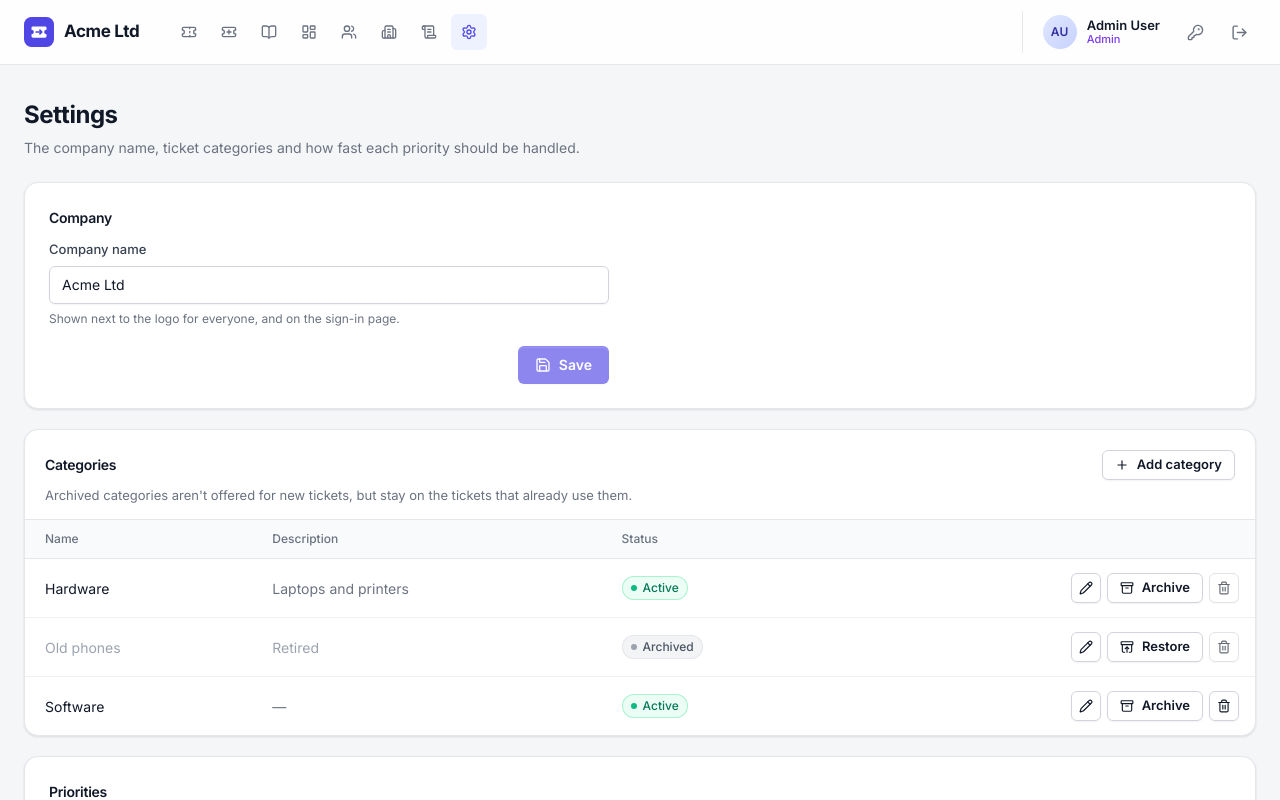
Scenario: Settings: categories › Edit: prefilled, sends only what changed
This screenshot has width=1280, height=800.
Expected: the heading "Settings" is shown, [24,100,118,129]
Expected: the element "Categories" is shown, [24,428,1256,736]
Click the button named "Edit Software".
click(1086, 706)  # box [1071,691,1101,721]
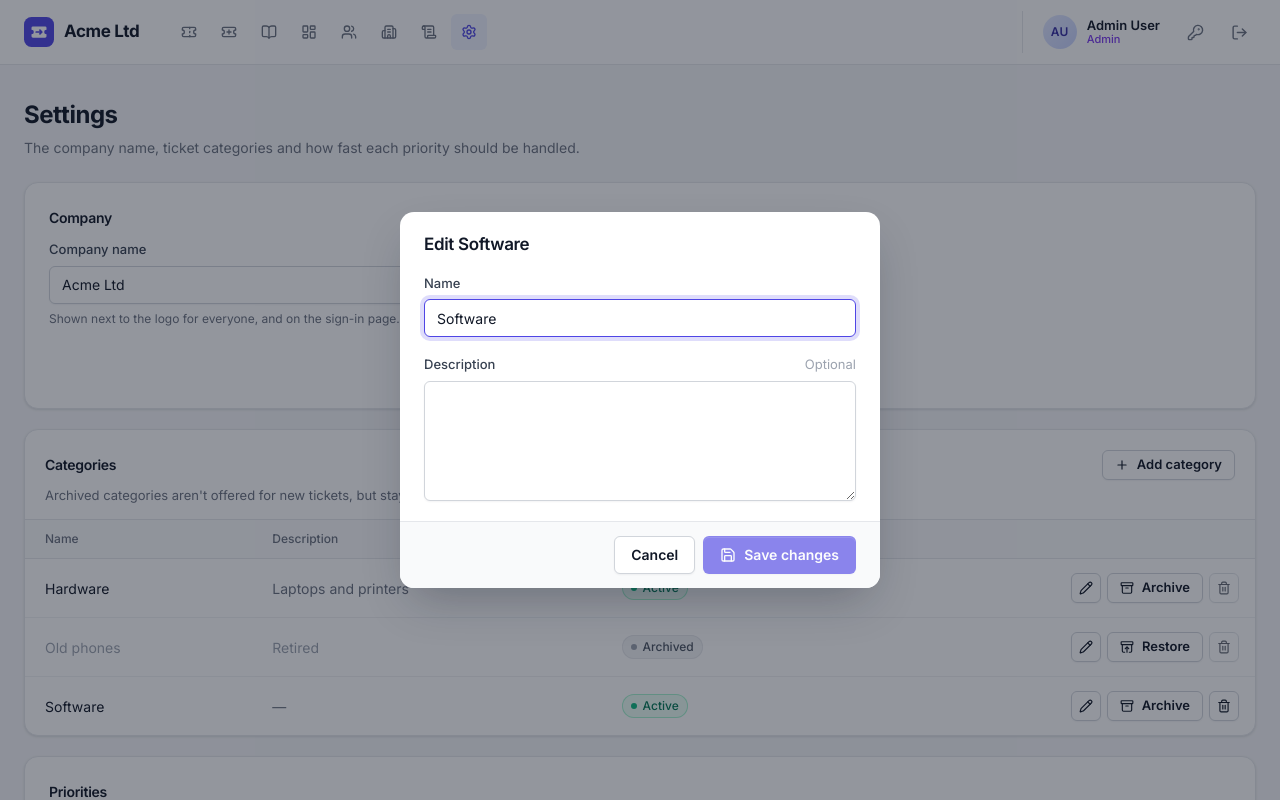
Result: the field labelled "Name" holds "Software" at [424,299,856,337]
Result: the button "Save changes" is disabled at [703,536,856,574]
Type "Apps and licences" into the text box labelled "Description Optional".
click(640, 441); type("Apps and licences")  # box [424,381,856,501]
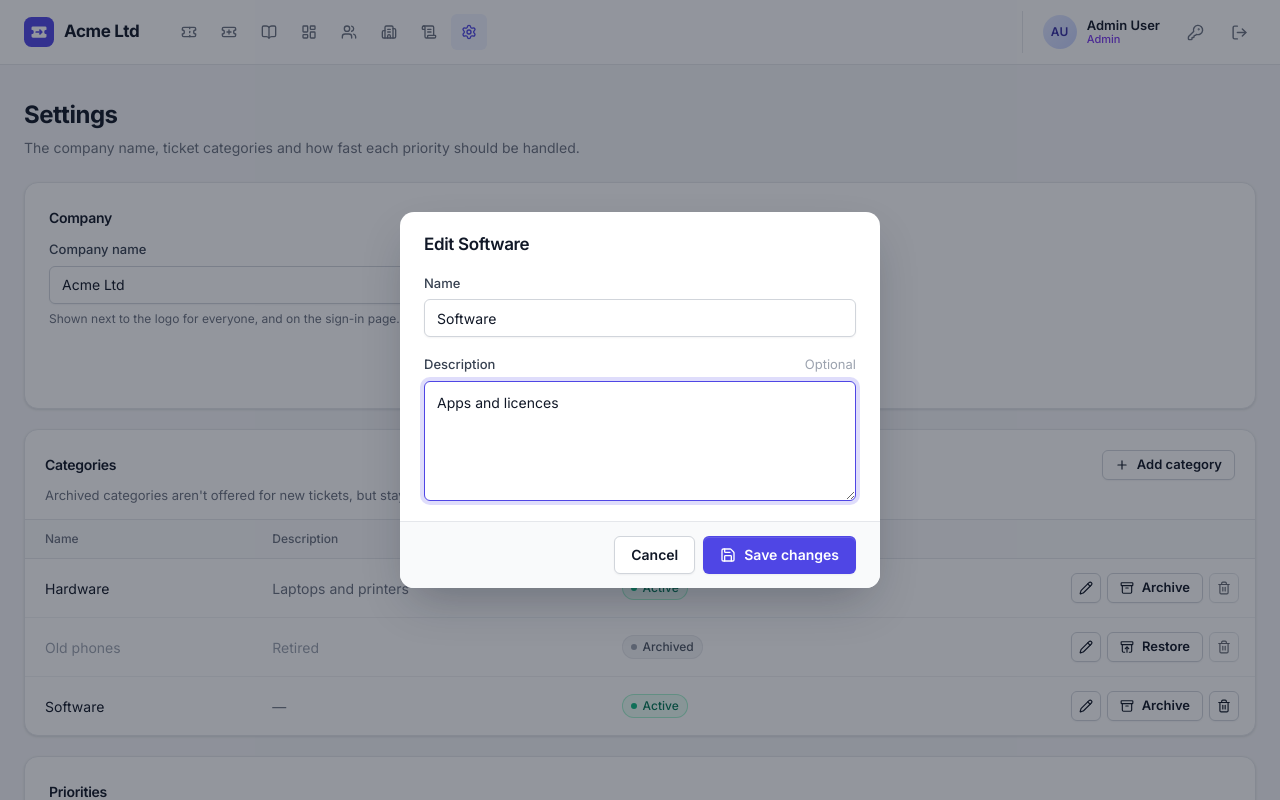
Click the button "Save changes".
click(780, 555)  # box [703,536,856,574]
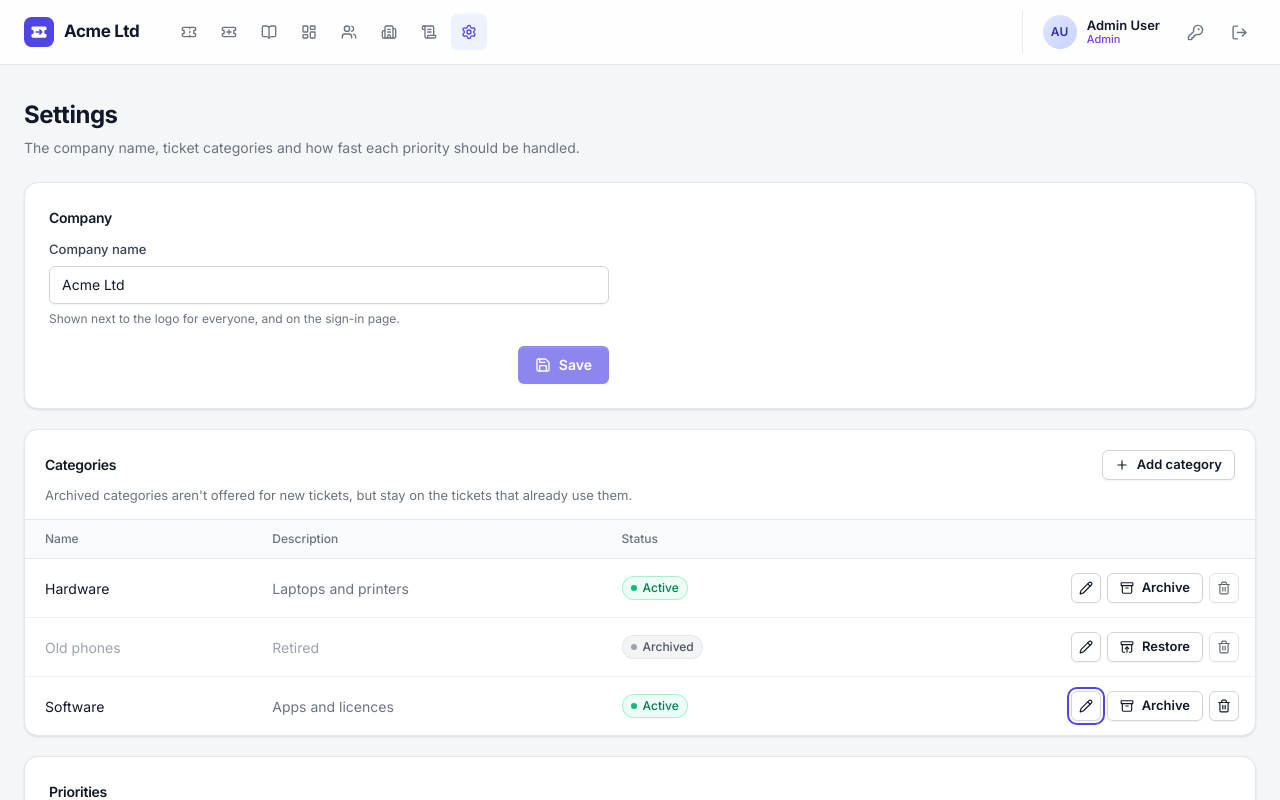
Result: the dialog is gone
Result: the text "Software" shows "Apps and licences" at [272,698,394,714]
